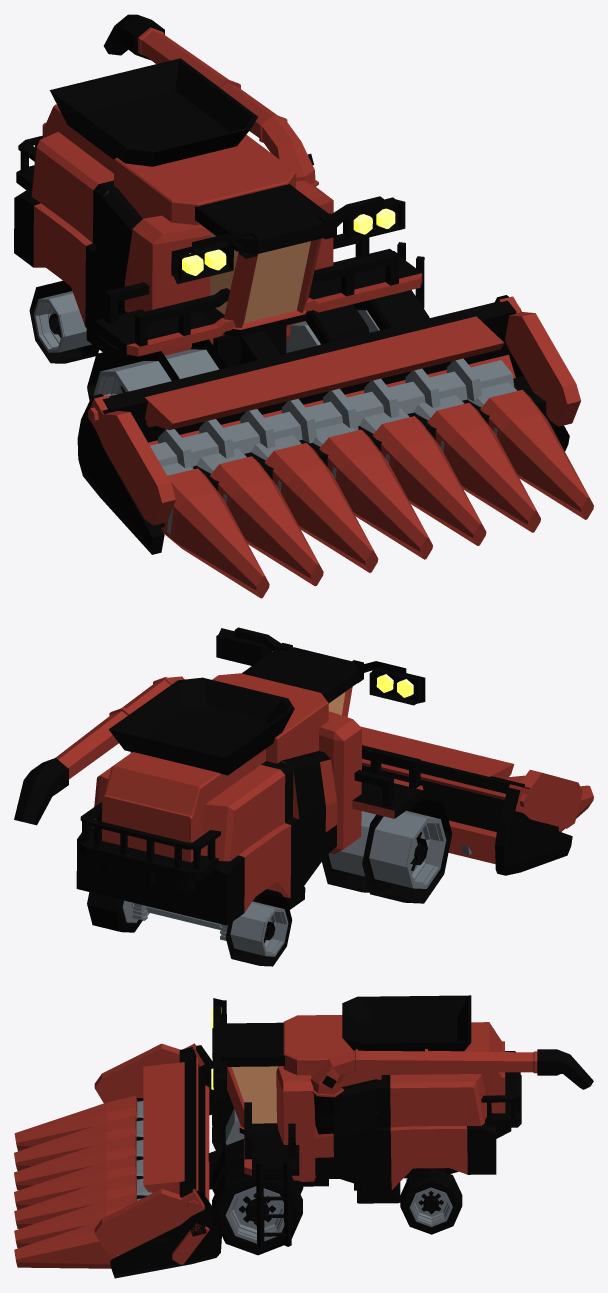
Rendered from moissoneuse3.glb.
The picture shows the model from 3 angles, top to bottom: view 1: azimuth 30°, elevation 25°; view 2: azimuth 150°, elevation 25°; view 3: azimuth 270°, elevation 25°; orthographic projection. The views are drawn at different scales.
Parts seen in each view (by area): view 1: Cube.146, Cube.038, Cube.107, Cube.001, Cube.106, Cube.002, Cube.037, Cube.104, Cube.039, Cube.043, Cube.109, Cube.110 (+21 smaller); view 2: Cube.002, Cube.038, Cube.036, Cube.003, Cube.048, Cube.001, Cube.104, Cube.043, Cube.112, Cube.037, Cube.107, Cube.109 (+21 smaller); view 3: Cube.146, Cube.002, Cube.038, Cube.040, Cube.001, Cube.107, Cube.003, Cube.110, Cube.037, Cube.104, Cube.043, Cube.008 (+24 smaller).
Part boxes in pixels (x1=…): Cube.146: x1=161, y1=389, x2=593, y2=598; Cube.038: x1=49, y1=58, x2=257, y2=166; Cube.107: x1=145, y1=316, x2=503, y2=430; Cube.001: x1=195, y1=184, x2=328, y2=336; Cube.106: x1=150, y1=358, x2=514, y2=469; Cube.002: x1=14, y1=132, x2=115, y2=333; Cube.037: x1=114, y1=134, x2=296, y2=225; Cube.104: x1=102, y1=300, x2=516, y2=442; Cube.039: x1=94, y1=248, x2=422, y2=356; Cube.043: x1=132, y1=181, x2=333, y2=355; Cube.109: x1=87, y1=395, x2=175, y2=525; Cube.110: x1=499, y1=296, x2=580, y2=426; Cube.002: x1=76, y1=761, x2=299, y2=925; Cube.038: x1=108, y1=677, x2=294, y2=775; Cube.036: x1=102, y1=749, x2=265, y2=862; Cube.003: x1=280, y1=751, x2=337, y2=893; Cube.048: x1=369, y1=810, x2=446, y2=888; Cube.001: x1=242, y1=647, x2=359, y2=717; Cube.104: x1=362, y1=757, x2=524, y2=831; Cube.043: x1=319, y1=711, x2=361, y2=854; Cube.112: x1=495, y1=787, x2=572, y2=875; Cube.037: x1=212, y1=673, x2=328, y2=763; Cube.107: x1=360, y1=726, x2=514, y2=779; Cube.109: x1=509, y1=770, x2=582, y2=828; Cube.146: x1=14, y1=1095, x2=137, y2=1268; Cube.002: x1=376, y1=1074, x2=496, y2=1190; Cube.038: x1=342, y1=995, x2=471, y2=1051; Cube.040: x1=311, y1=1049, x2=537, y2=1134; Cube.001: x1=212, y1=1022, x2=284, y2=1134; Cube.107: x1=143, y1=1062, x2=184, y2=1194; Cube.003: x1=315, y1=1079, x2=378, y2=1190; Cube.110: x1=94, y1=1188, x2=204, y2=1254; Cube.037: x1=283, y1=1015, x2=381, y2=1086; Cube.104: x1=179, y1=1047, x2=206, y2=1236; Cube.043: x1=276, y1=1066, x2=315, y2=1181; Cube.008: x1=212, y1=1164, x2=302, y2=1255.
Bounding box in the file's own units: 507 × 294 × 812.
